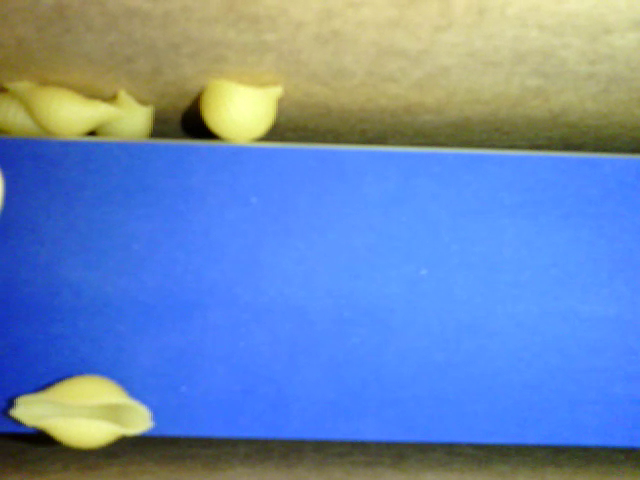shell: (9, 370, 154, 447), (1, 74, 129, 138), (199, 74, 283, 147), (92, 88, 151, 139), (1, 89, 56, 139)
